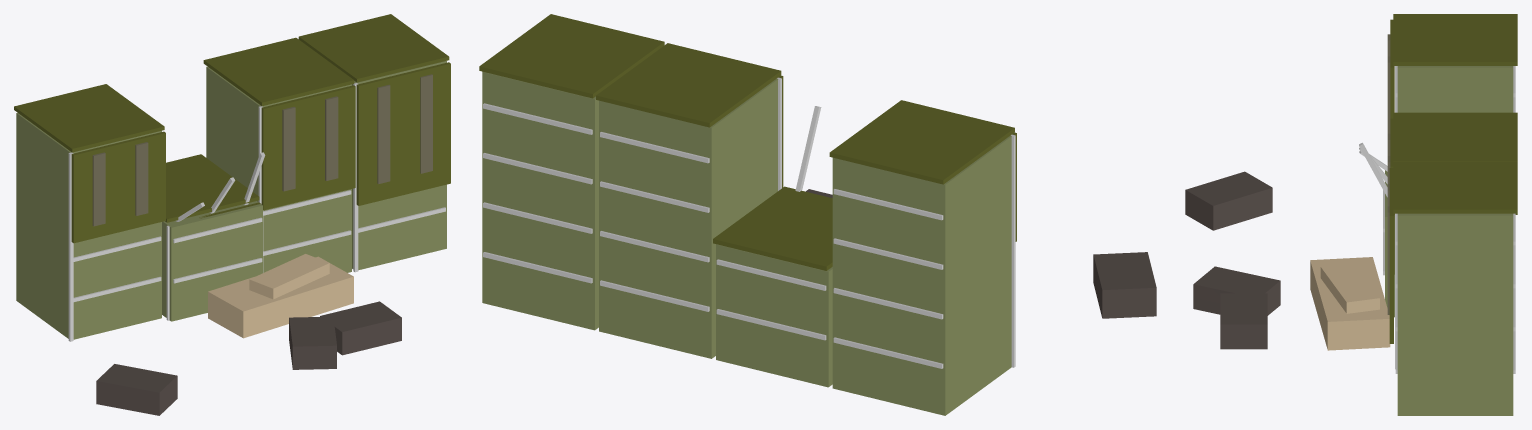
The model's file is SM_HescoCorto4_v4_Red_e1_Danado_LOD0.fbx.
3 views of the same model, side by side, from view 1: azimuth 30°, elevation 25°; view 2: azimuth 150°, elevation 25°; view 3: azimuth 270°, elevation 25° (orthographic). The views are drawn at different scales.
Parts seen in each view (by area): view 1: SM_hesco_piezas_v117_LOD0; view 2: SM_hesco_piezas_v117_LOD0; view 3: SM_hesco_piezas_v117_LOD0.
Boxes of the visible parts, x1=… form: SM_hesco_piezas_v117_LOD0: x1=14, y1=14, x2=450, y2=415; SM_hesco_piezas_v117_LOD0: x1=479, y1=14, x2=1156, y2=415; SM_hesco_piezas_v117_LOD0: x1=1185, y1=14, x2=1517, y2=415.
Bounding box in the file's own units: 4.95 × 2.16 × 3.16.
